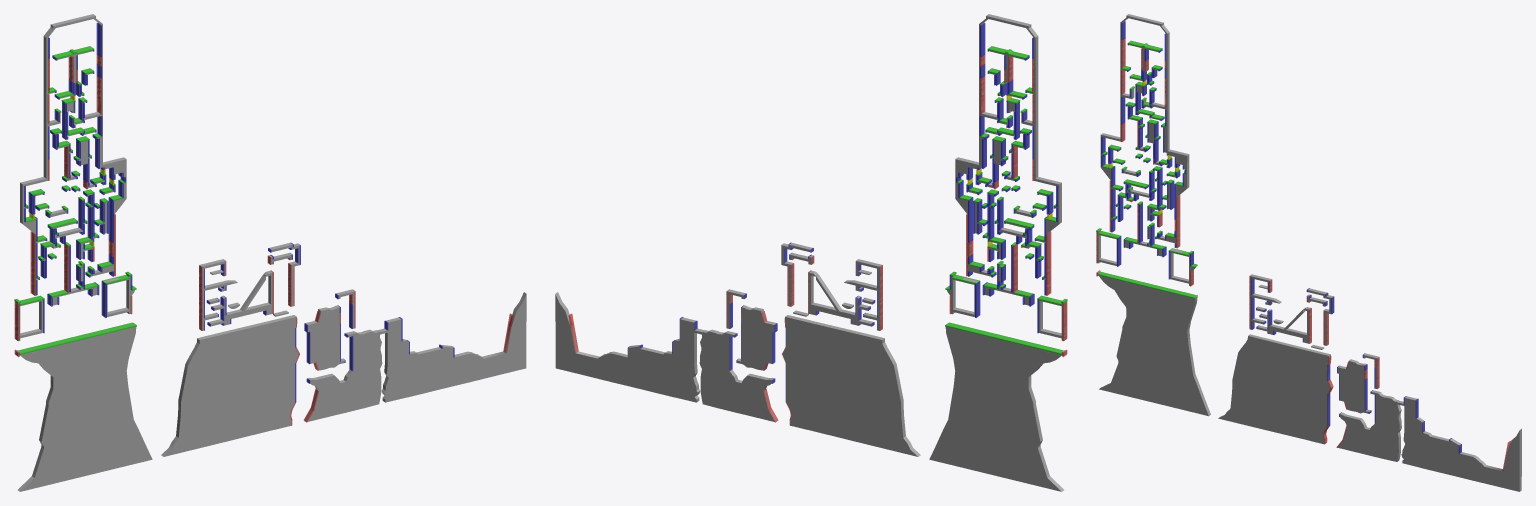
File: Ice_Level.fbx
3 renders of one model, left to right at view 1: azimuth 30°, elevation 25°; view 2: azimuth 150°, elevation 25°; view 3: azimuth 330°, elevation 25°, orthographic. The views are drawn at different scales.
Visible parts, largest first — view 1: polySurface7, polySurface1, polySurface3, Base_Tower_GreyBox, Floor_1; view 2: polySurface7, polySurface1, polySurface3, Base_Tower_GreyBox, Floor_1; view 3: polySurface7, polySurface1, polySurface3, Base_Tower_GreyBox, Floor_1.
Part boxes in pixels (x1=…): polySurface7: x1=161, y1=242, x2=300, y2=456; polySurface1: x1=18, y1=327, x2=152, y2=491; polySurface3: x1=304, y1=289, x2=526, y2=421; Base_Tower_GreyBox: x1=15, y1=14, x2=135, y2=355; Floor_1: x1=18, y1=322, x2=136, y2=354; polySurface7: x1=781, y1=242, x2=920, y2=456; polySurface1: x1=929, y1=327, x2=1063, y2=491; polySurface3: x1=555, y1=289, x2=777, y2=421; Base_Tower_GreyBox: x1=946, y1=14, x2=1066, y2=355; Floor_1: x1=945, y1=322, x2=1063, y2=354; polySurface7: x1=1218, y1=274, x2=1333, y2=444; polySurface1: x1=1099, y1=276, x2=1210, y2=416; polySurface3: x1=1337, y1=353, x2=1521, y2=491; Base_Tower_GreyBox: x1=1096, y1=14, x2=1197, y2=299; Floor_1: x1=1097, y1=272, x2=1197, y2=298.
Bounding box in the file's own units: 44.08 × 37.94 × 0.6.
